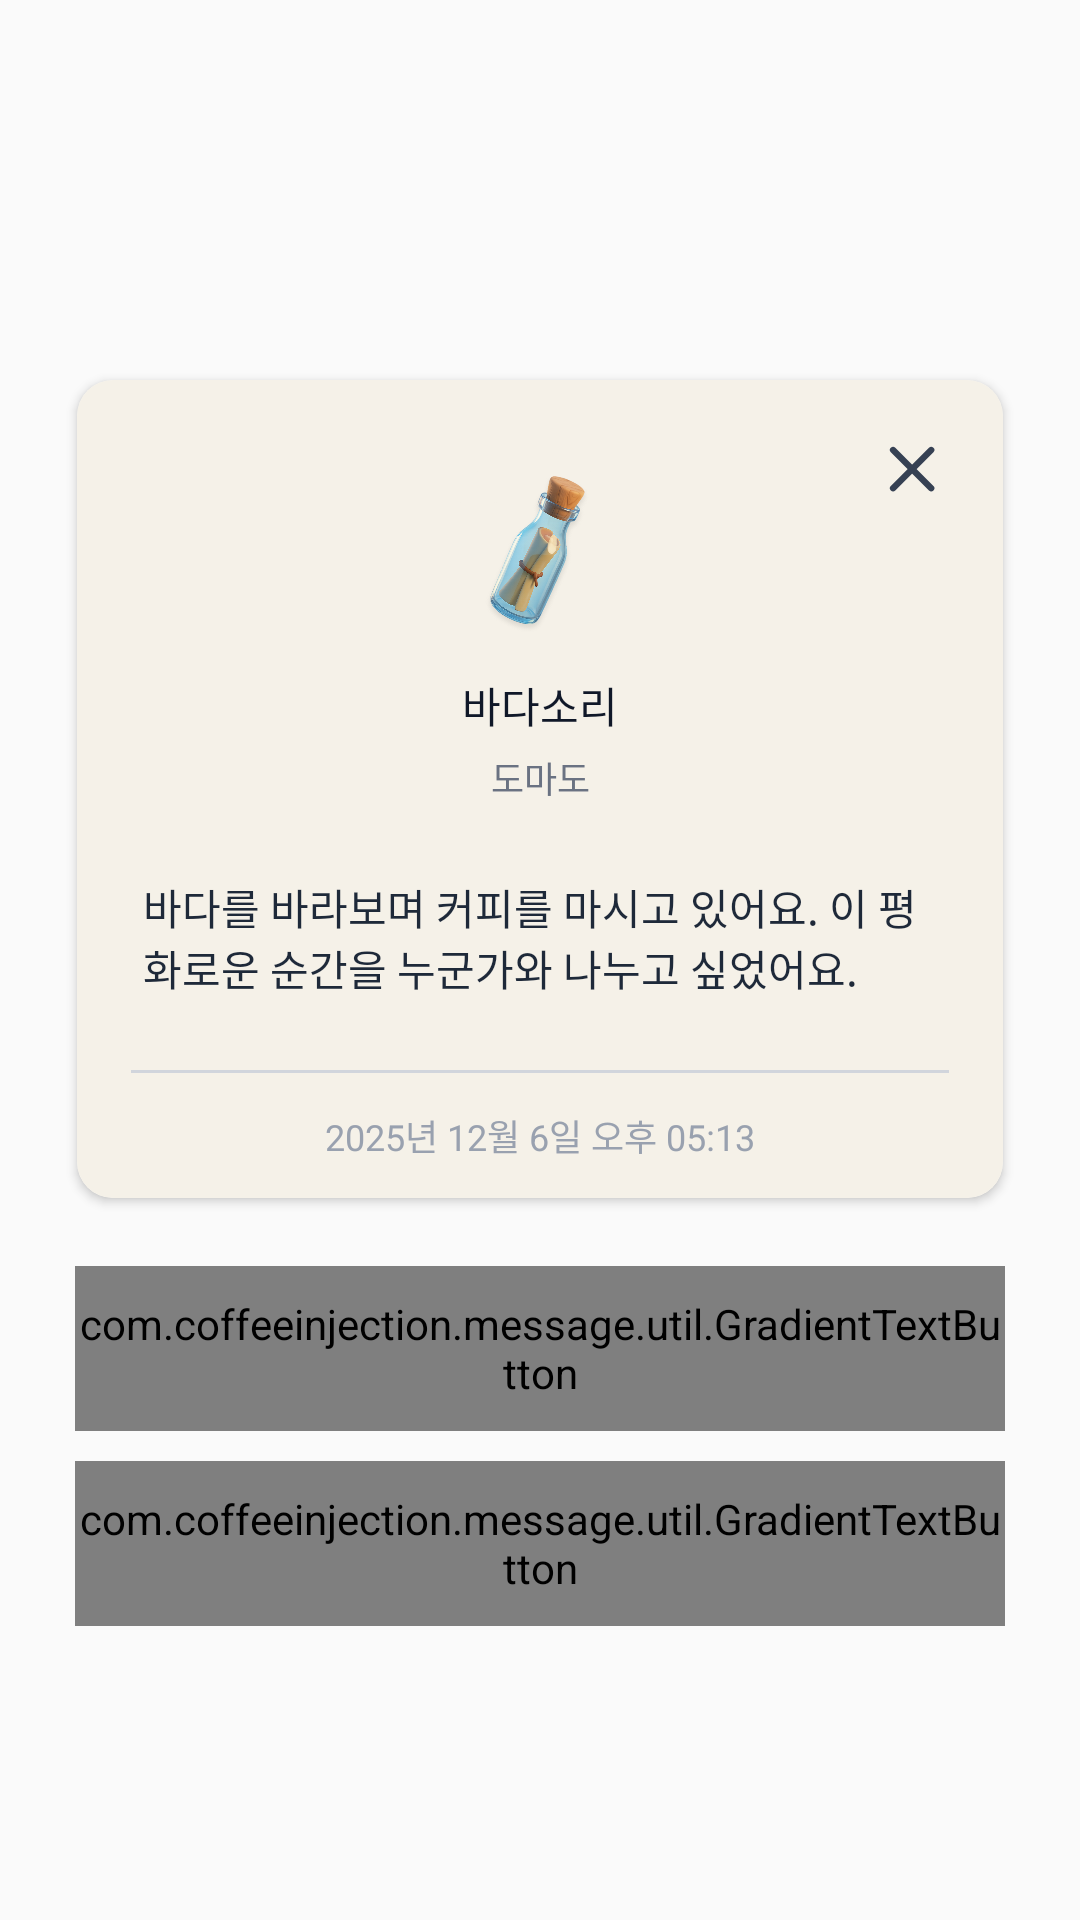

Icons on this 1080 × 1920 Android screen, each with its box as (x1, y1, x2, y2):
bottle: (490, 476, 585, 624)
close: (889, 446, 935, 492)
